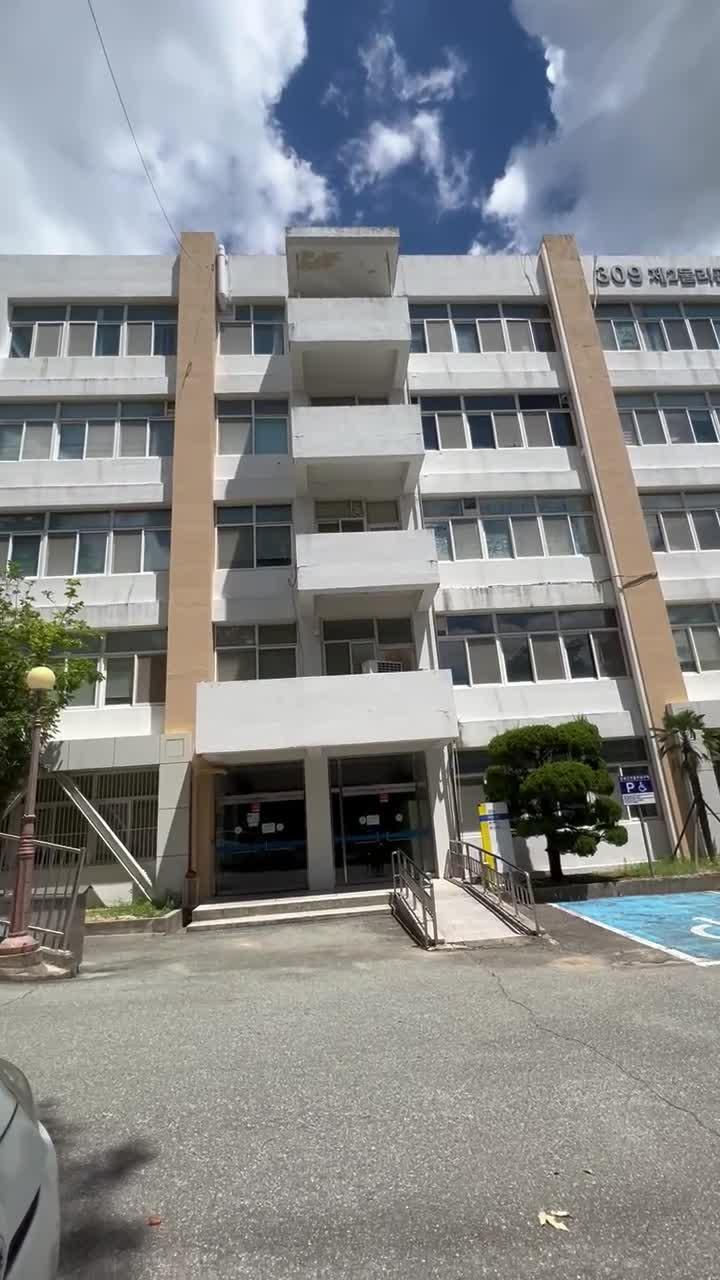building: (40, 224, 720, 708)
